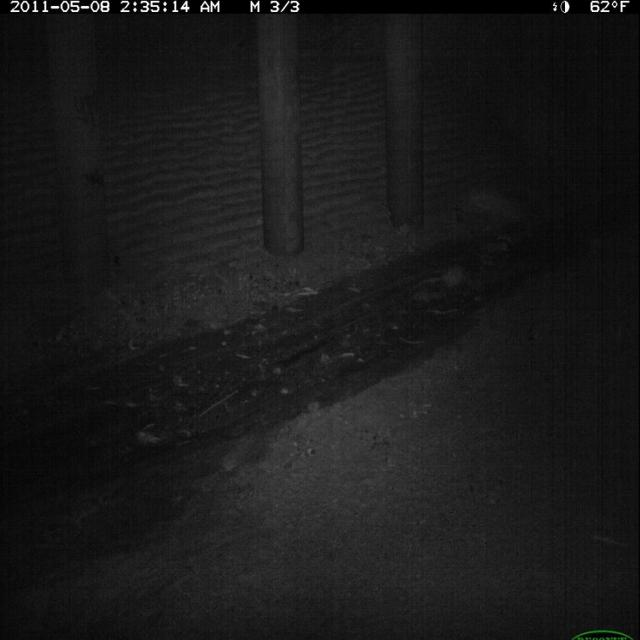opossum: (417, 260, 479, 301)
